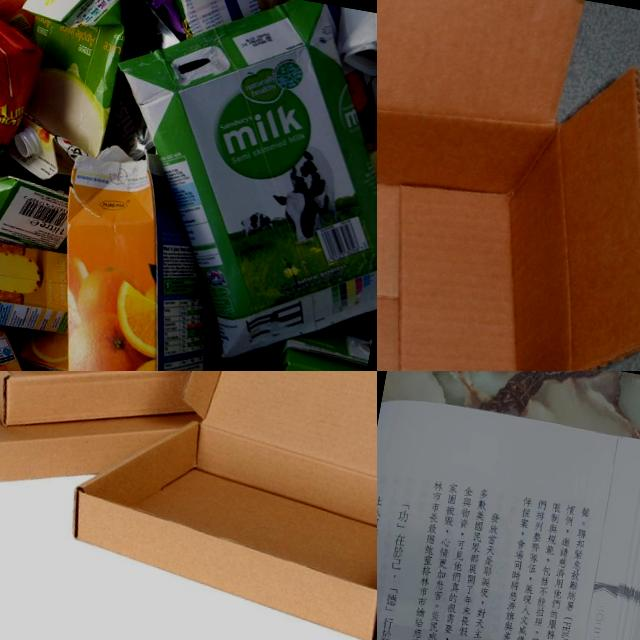caixinha: (71, 0, 377, 371), (34, 136, 245, 371), (0, 0, 52, 287), (264, 322, 371, 371)
garrafa plástica: (377, 0, 640, 371), (58, 371, 377, 640), (0, 371, 227, 516)
papel: (377, 393, 640, 640)
